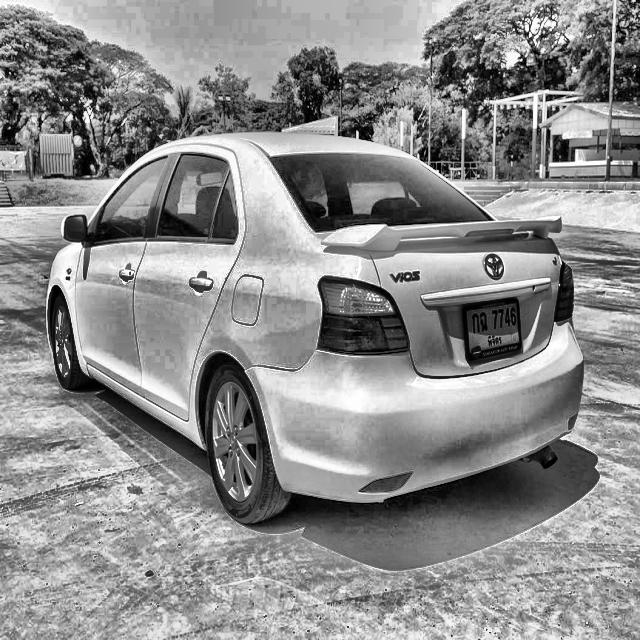license-plate: (460, 294, 526, 369)
